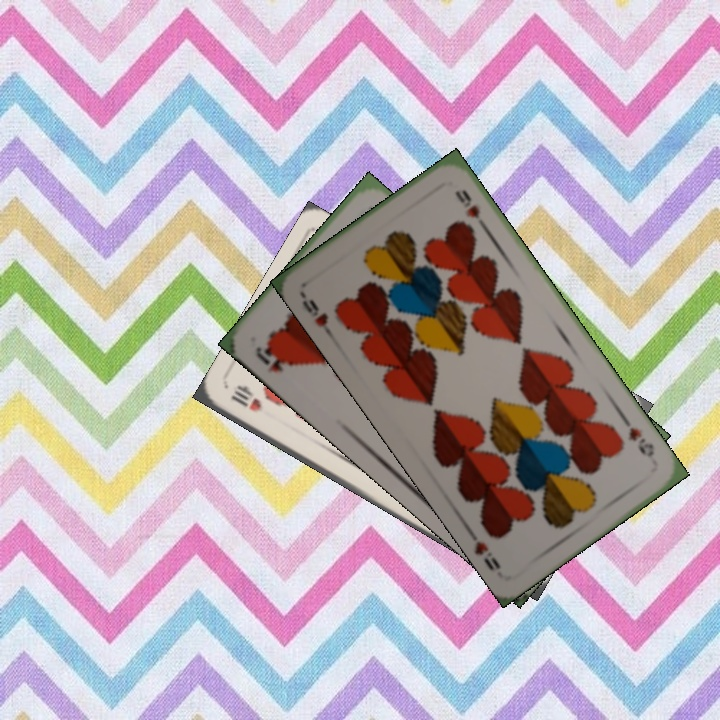H10: (226, 383, 265, 414)
H9: (296, 288, 337, 341), (623, 423, 658, 460)
HO: (251, 339, 295, 375)
